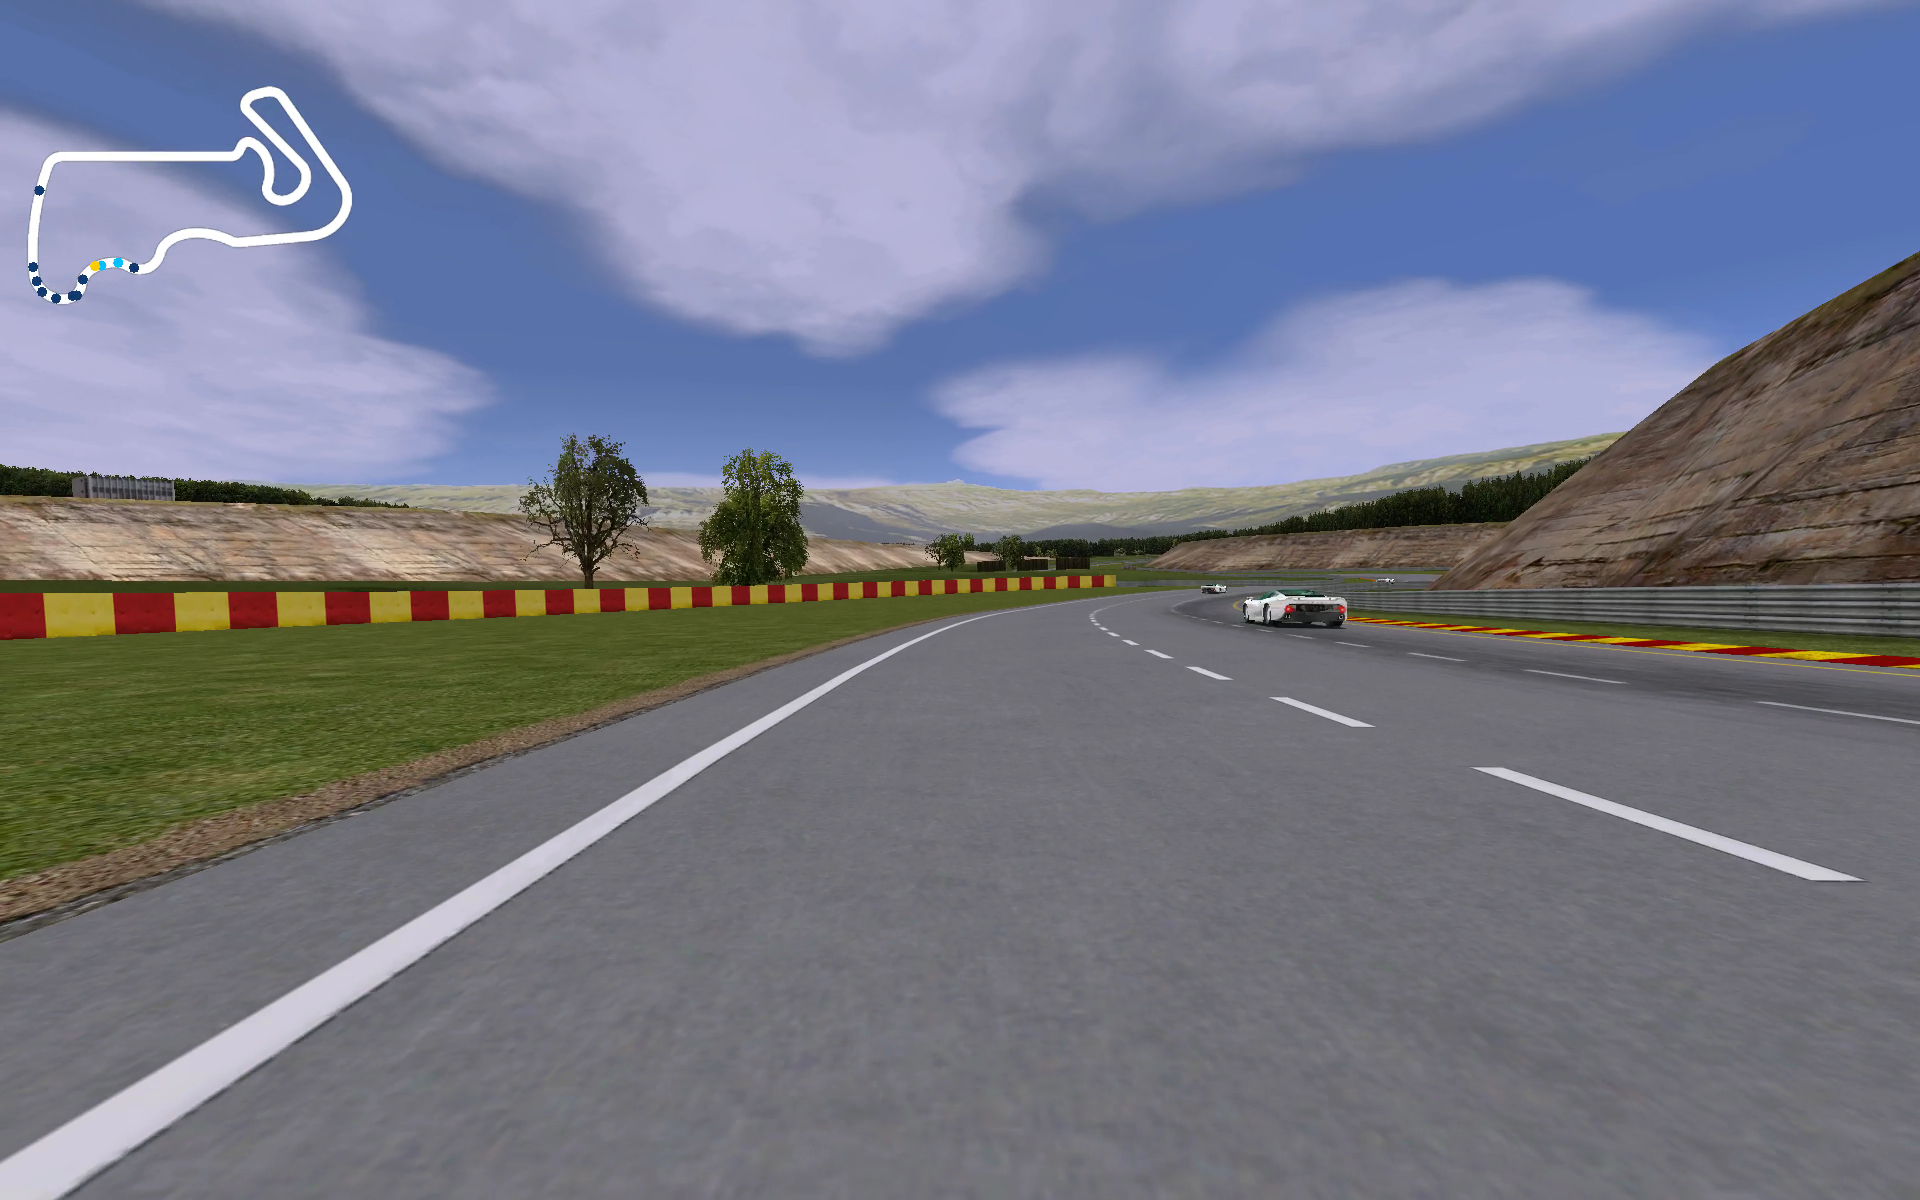car: (1240, 588, 1357, 628)
